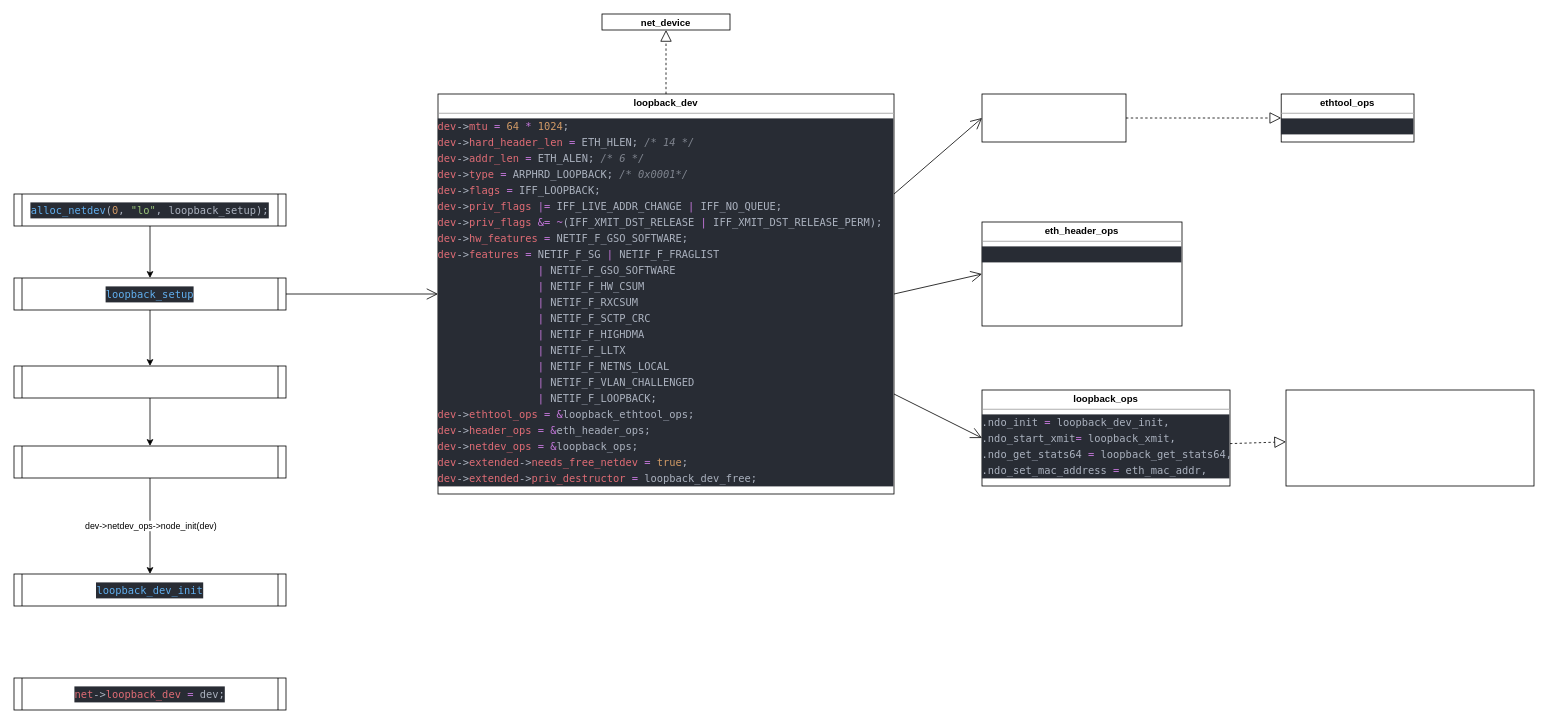
Image size: 1548x724. Some labels were removed from this diagram. Each missing label, with the centre of its shape:
dev_net_set(dev,net): the point at 149,381
loopback_ethtool_ops .get_link = always_on,: the point at 1053,117
net_device_ops: the point at 1409,437
register_netdev: the point at 149,461
